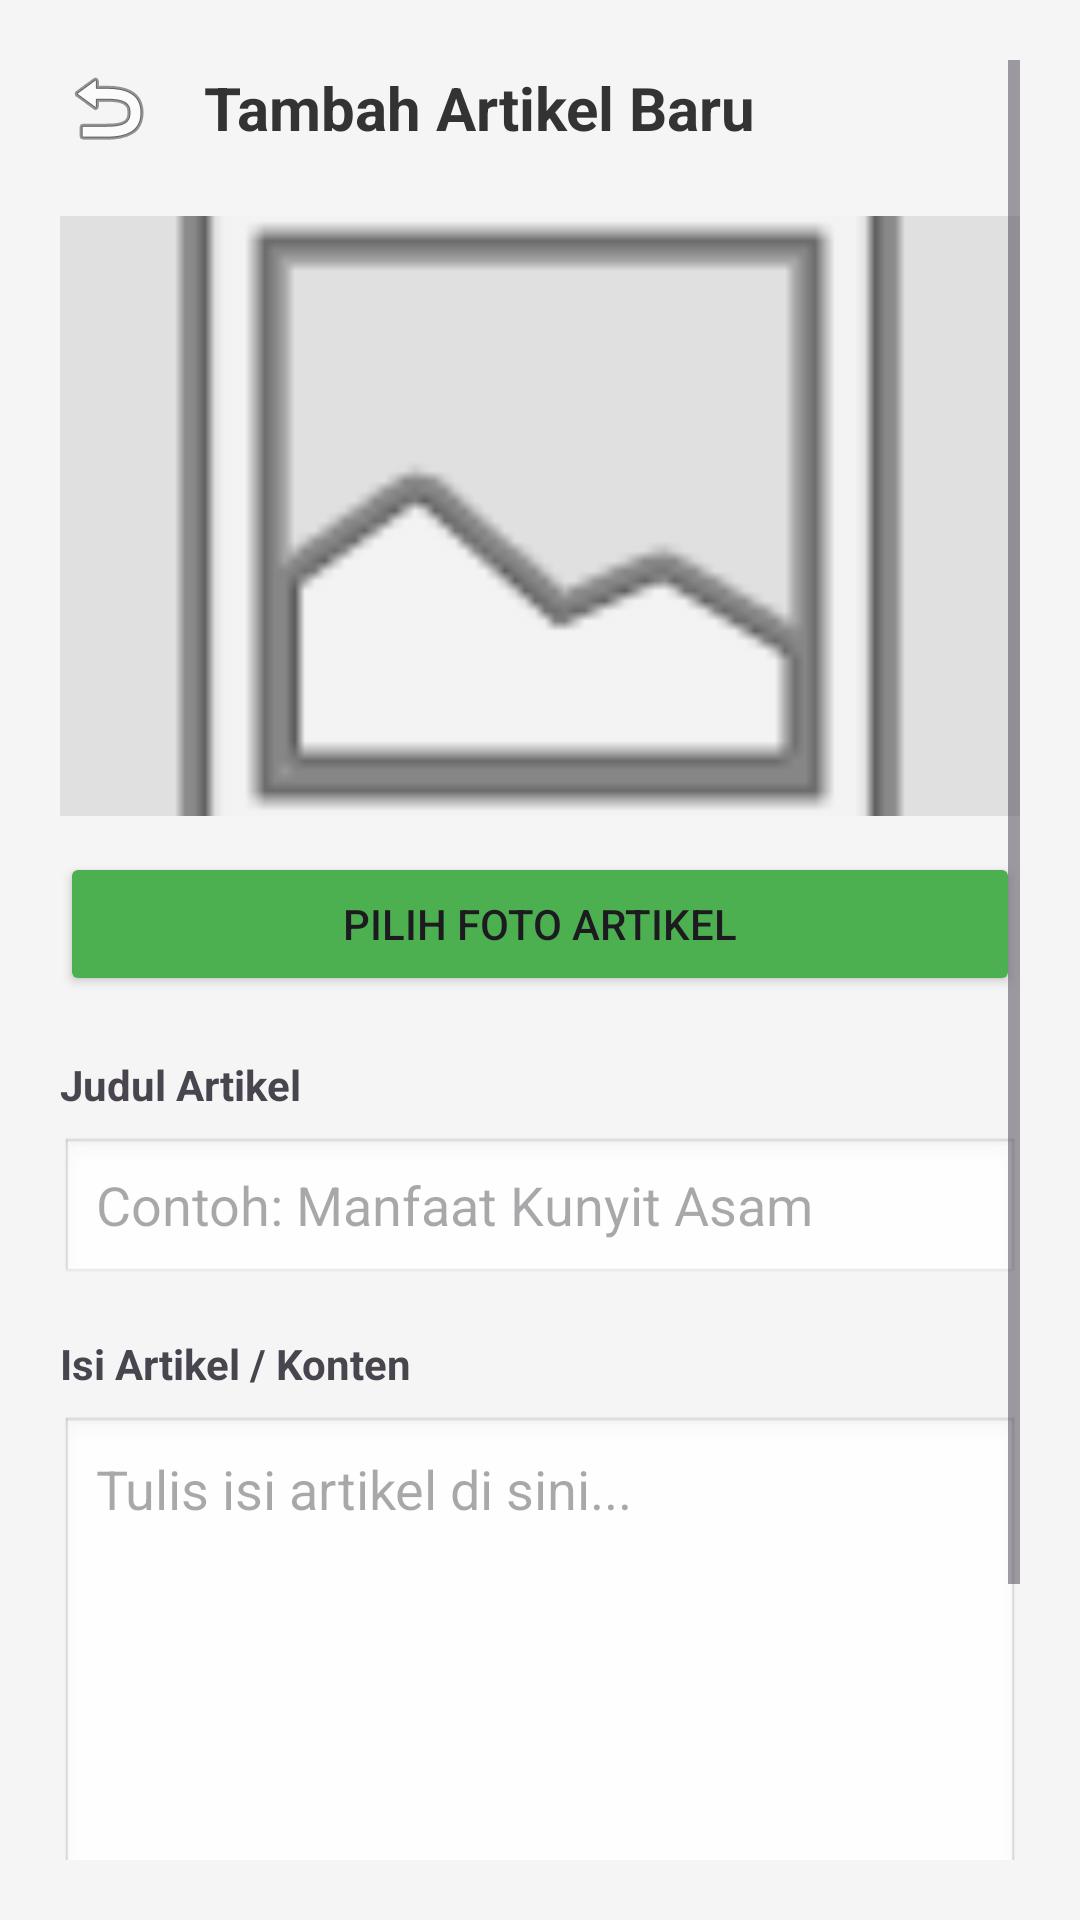

Where icons sit on this 1080*1920 app screen, as detection(x1, y1, x2, y2):
revert: detection(75, 77, 144, 140)
